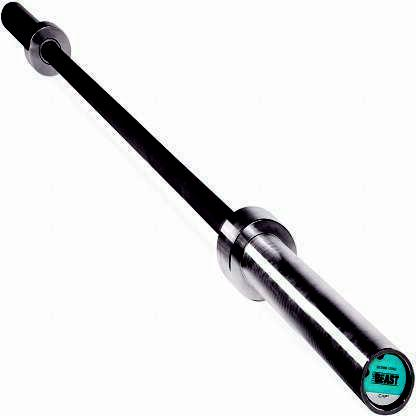Barbell: (348, 335, 416, 416)
